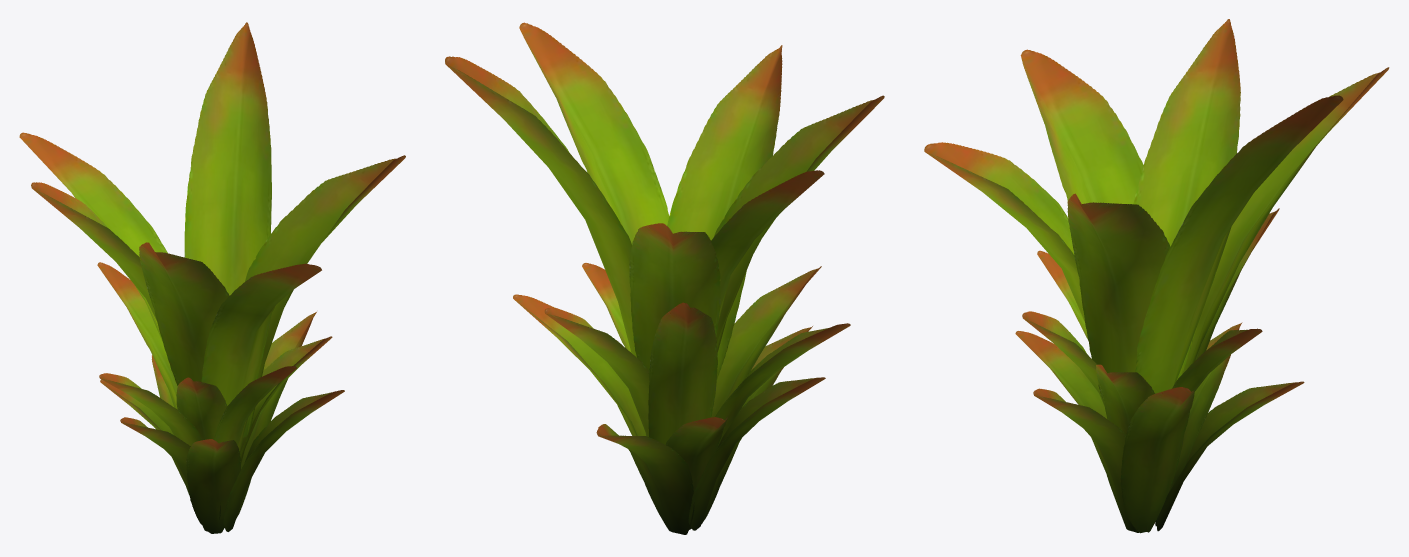
File: n_Plant_1_Big.glb
3 renders of one model, left to right at view 1: azimuth 30°, elevation 25°; view 2: azimuth 150°, elevation 25°; view 3: azimuth 270°, elevation 25°, orthographic. The views are drawn at different scales.
Parts seen in each view (by area): view 1: Plant_1_Big; view 2: Plant_1_Big; view 3: Plant_1_Big.
Part boxes in pixels (<box>): Plant_1_Big: <box>19,22,405,533</box>; Plant_1_Big: <box>445,22,884,534</box>; Plant_1_Big: <box>924,19,1389,533</box>.
Size of the model in its own units: 1.81 by 2.35 by 1.95.
1 material, 1 textured.
